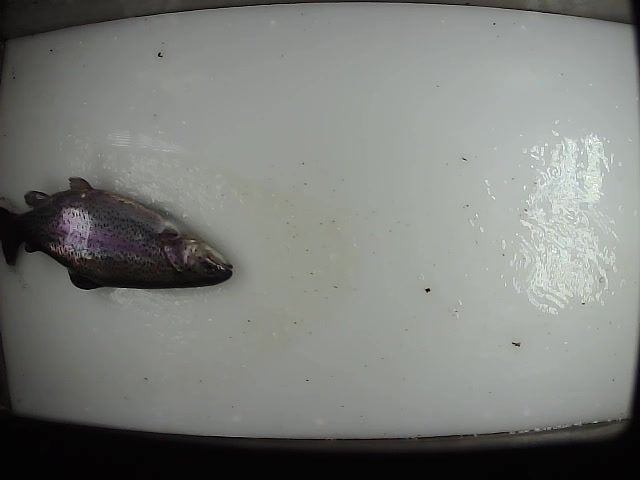Fish: (1, 175, 232, 290)
